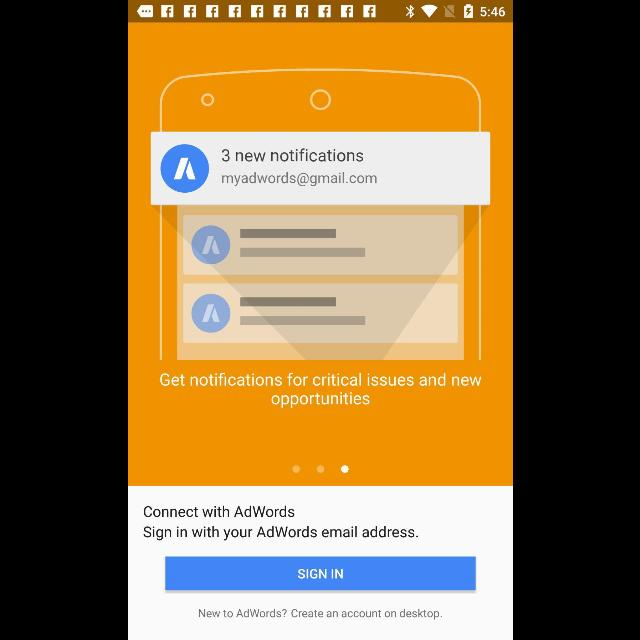image: (150, 69, 490, 359)
pageindicator: (292, 465, 348, 473)
text: (159, 372, 481, 408), (142, 506, 418, 540), (198, 608, 442, 620)
textbutton: (165, 556, 475, 590)
uppertaskbar: (128, 1, 512, 23)
